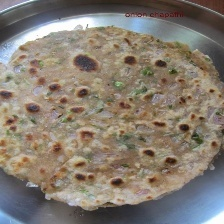roti: (0, 23, 224, 213)
